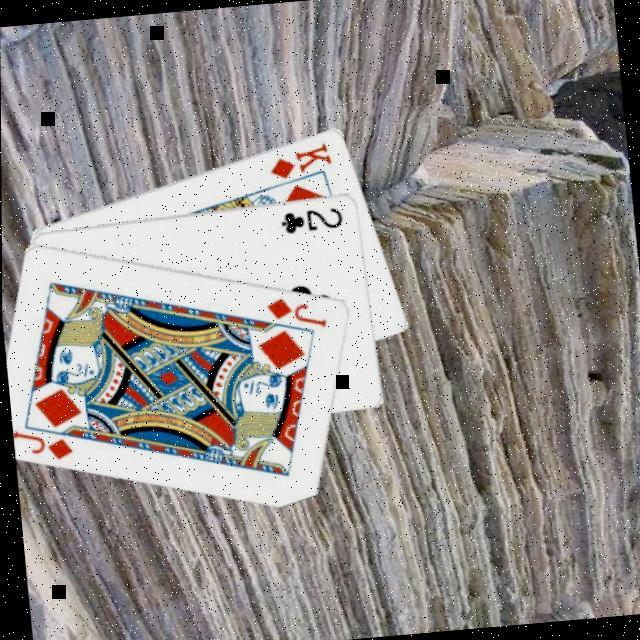2C: (277, 201, 347, 235)
JD: (262, 288, 332, 334), (11, 420, 78, 465)
KD: (264, 136, 338, 182)
